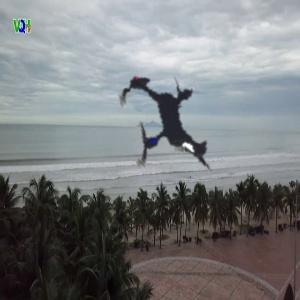drone: (73, 34, 257, 218)
